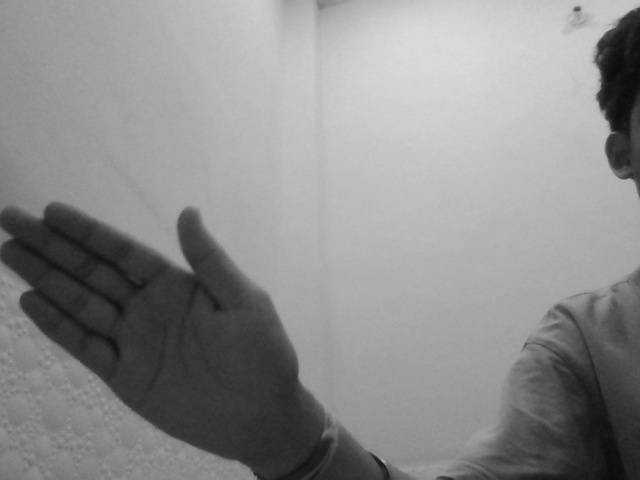Hello: (1, 206, 312, 465)
